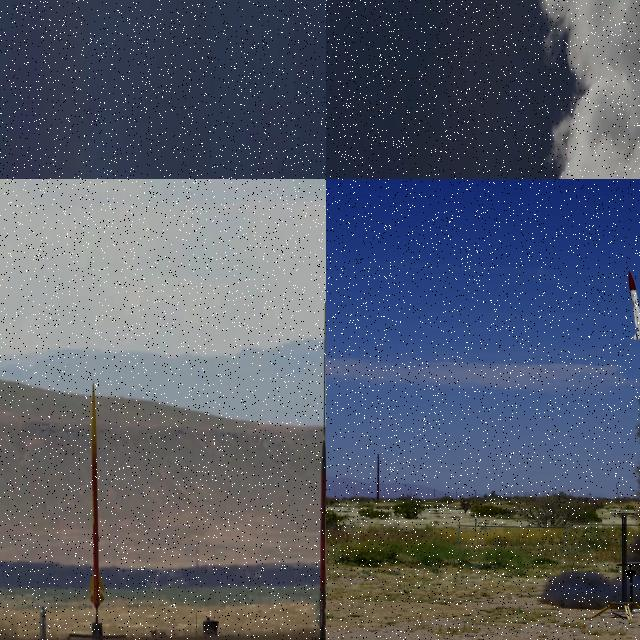Rocket: (88, 383, 106, 610), (315, 440, 326, 627), (627, 270, 640, 340), (604, 131, 608, 140)
